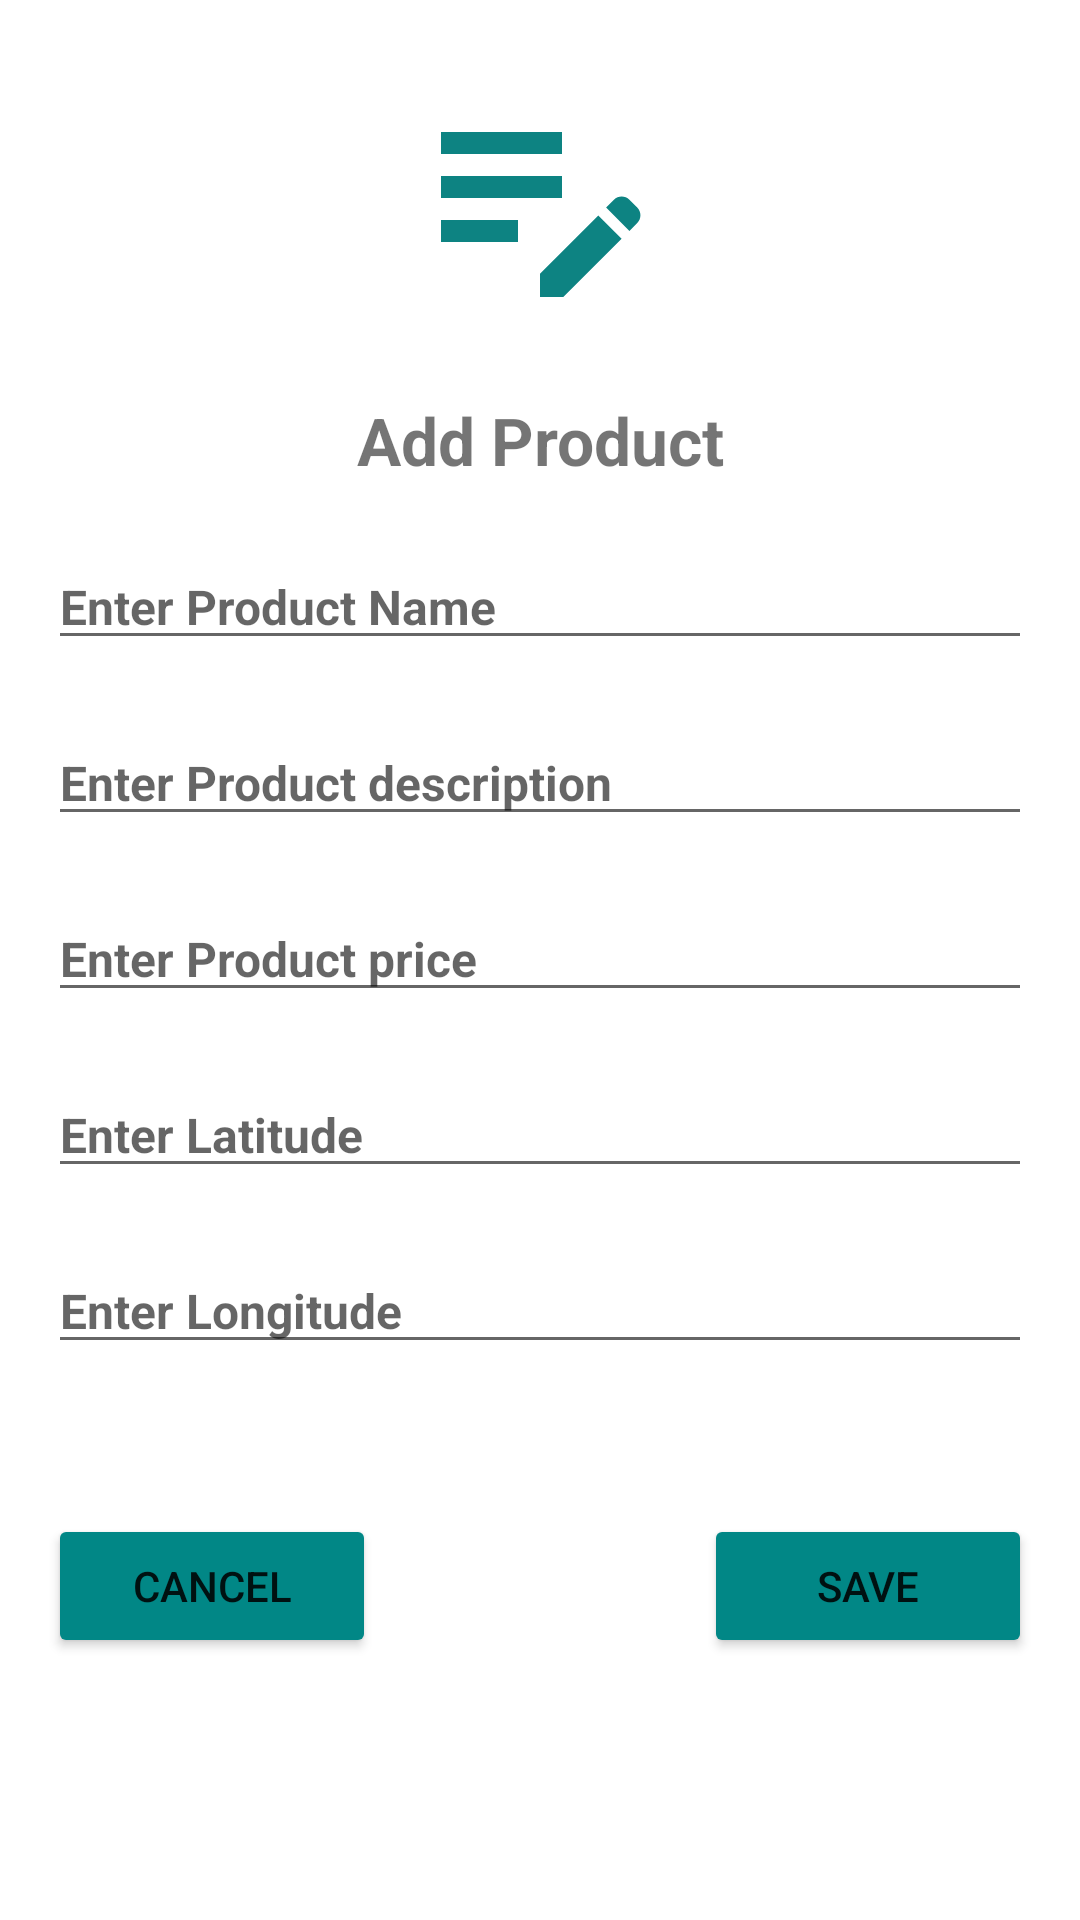

Named icons in this screenshot (1080x1920) and their bounding boxes, bbox=(x1, y1, x2, y2):
edit note: bbox=(441, 132, 641, 297)
